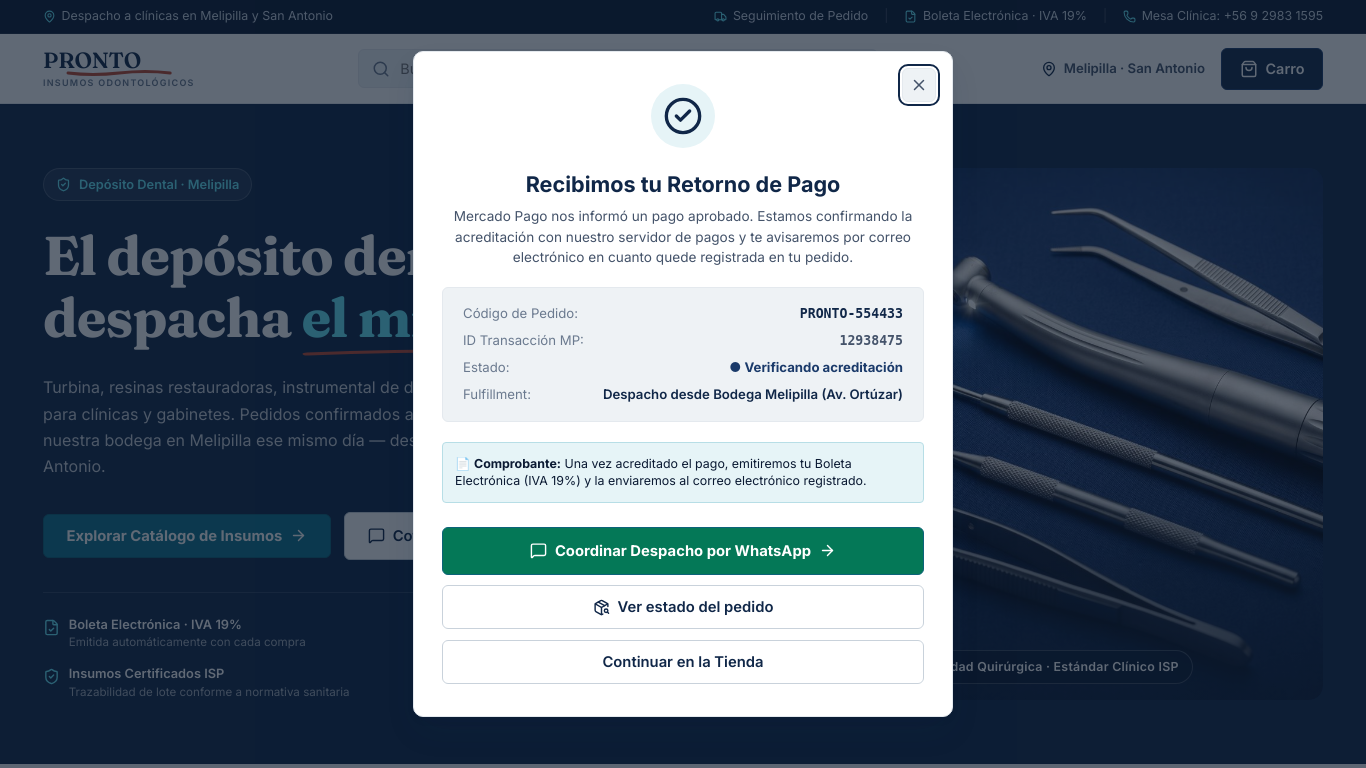
App Mercado Pago Return Flow Handling › should open the tracking flow from the return modal with the order id prefilled (Task 2.12)
Expected: the heading "Recibimos tu Retorno de Pago" is shown, [526,171,840,197]
Click the button "Ver estado del pedido".
click(683, 607)  # box [442,585,924,629]
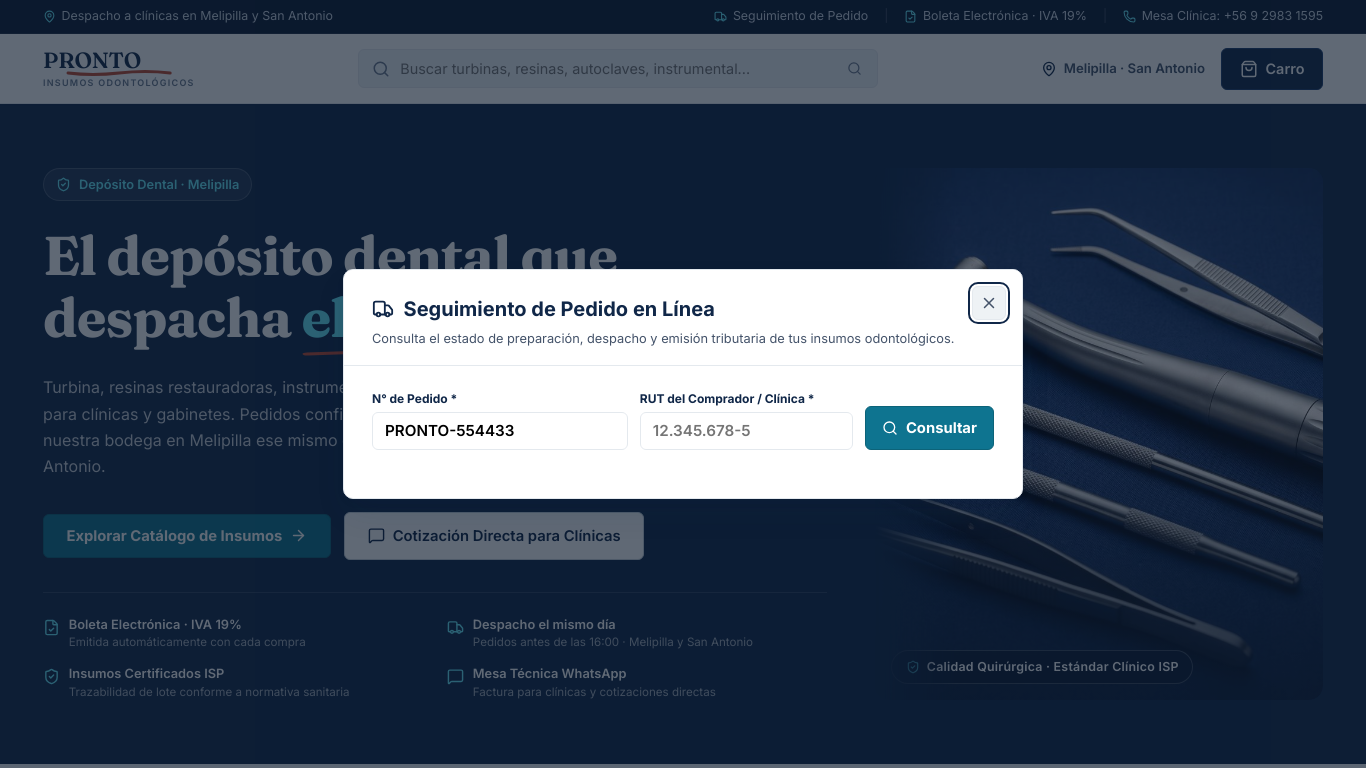
Result: the heading "Seguimiento de Pedido en Línea" is shown at [404,294,715,324]
Result: the heading "Recibimos tu Retorno de Pago" is gone
Result: the field labelled "N° de Pedido *" holds "PRONTO-554433" at [372,412,628,450]
